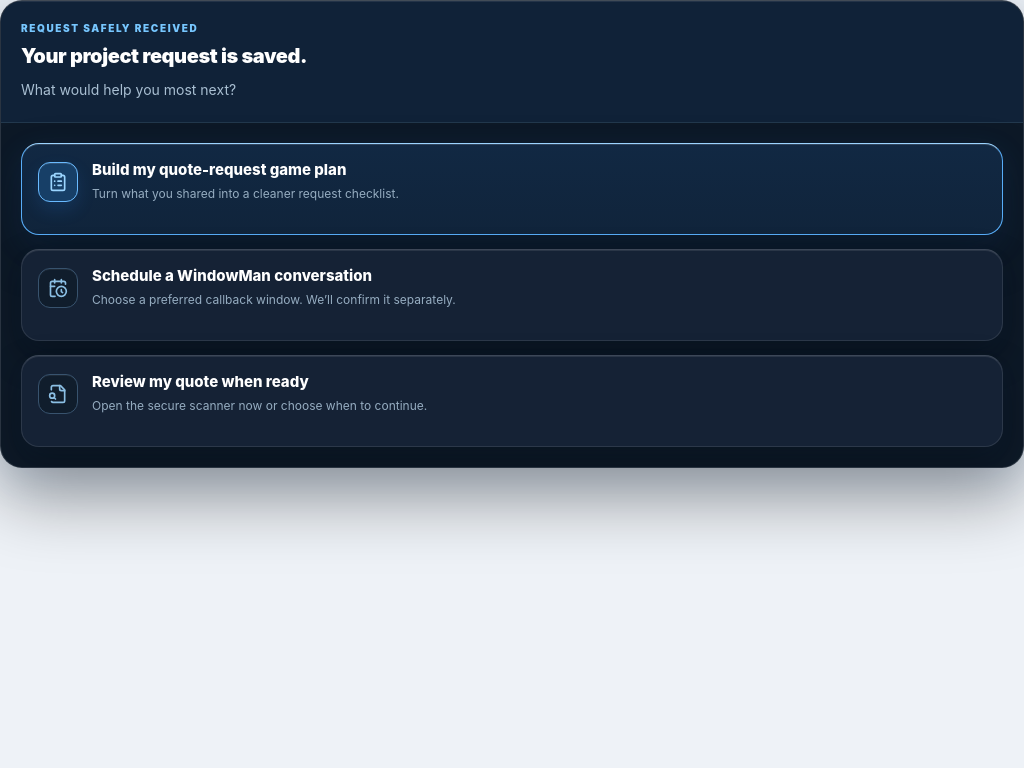
Test: WmChatPostCaptureStage › uses selfish utility copy for the optional game-plan address
Click the button "Build my quote-request game plan".
click(58, 182)  # box [21,143,1003,235]
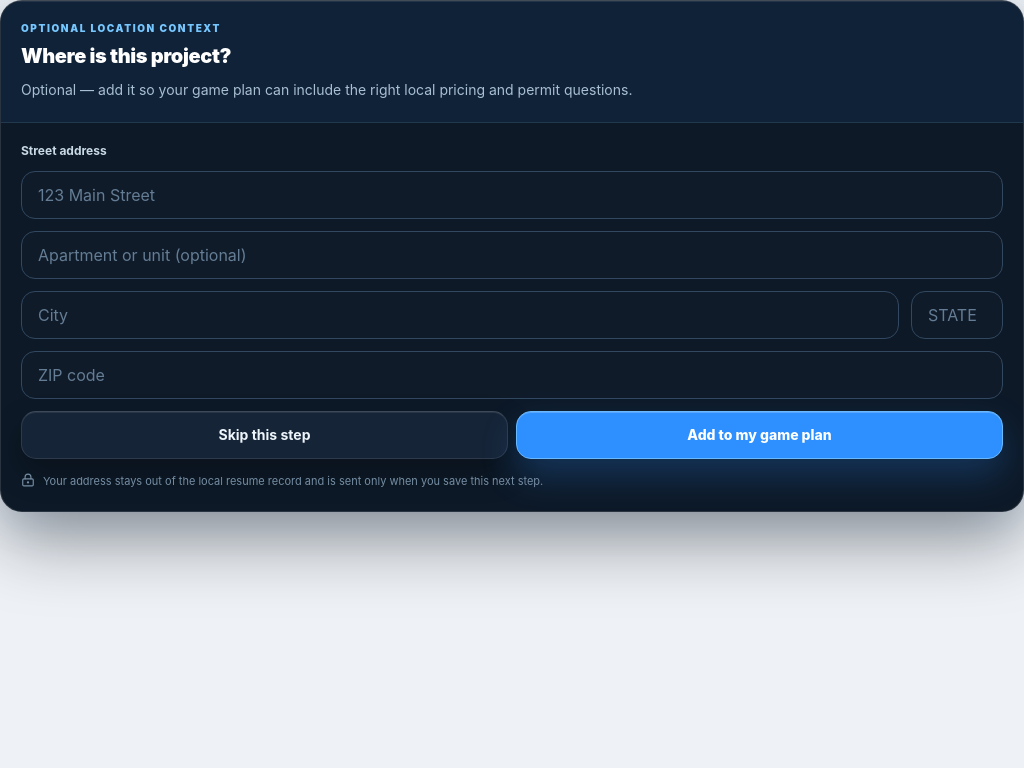
Check: the heading "Where is this project?" is shown, box [21,44,231,68]
Check: the text "Optional — add it so your game plan can include the right local pricing and permit questions." is shown, box [21,81,632,98]
Check: the button "Skip this step" is enabled, box [21,411,508,459]
